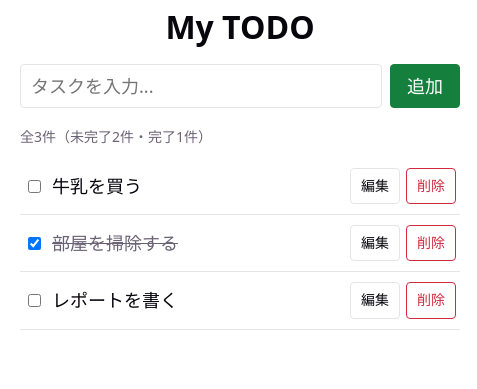
Test case: App › 追加は成功し再取得だけ失敗すると、一覧は表示を保ったまま再取得失敗の案内が出る
The image size is (477, 389).
Type "散歩する" into the field labelled "タスクを入力" at (201, 86), box [20, 64, 382, 108]
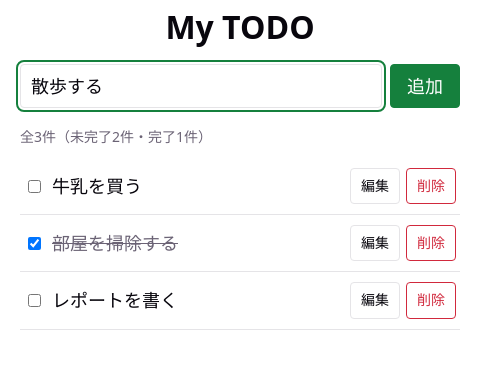
Click the button "追加" at (425, 86), box [390, 64, 460, 108]
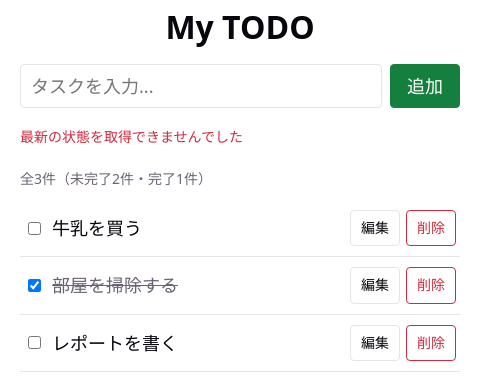
Expected: the number of list items is 3, [20, 200, 460, 258]; [20, 258, 460, 315]; [20, 315, 460, 372]
Result: the text "最新の状態を取得できませんでした" is shown at [20, 127, 243, 146]
